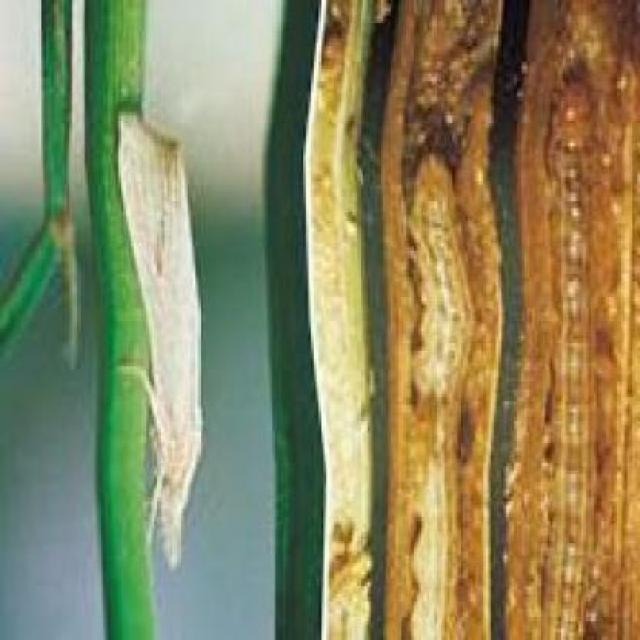stem-borer: (108, 103, 208, 577)
